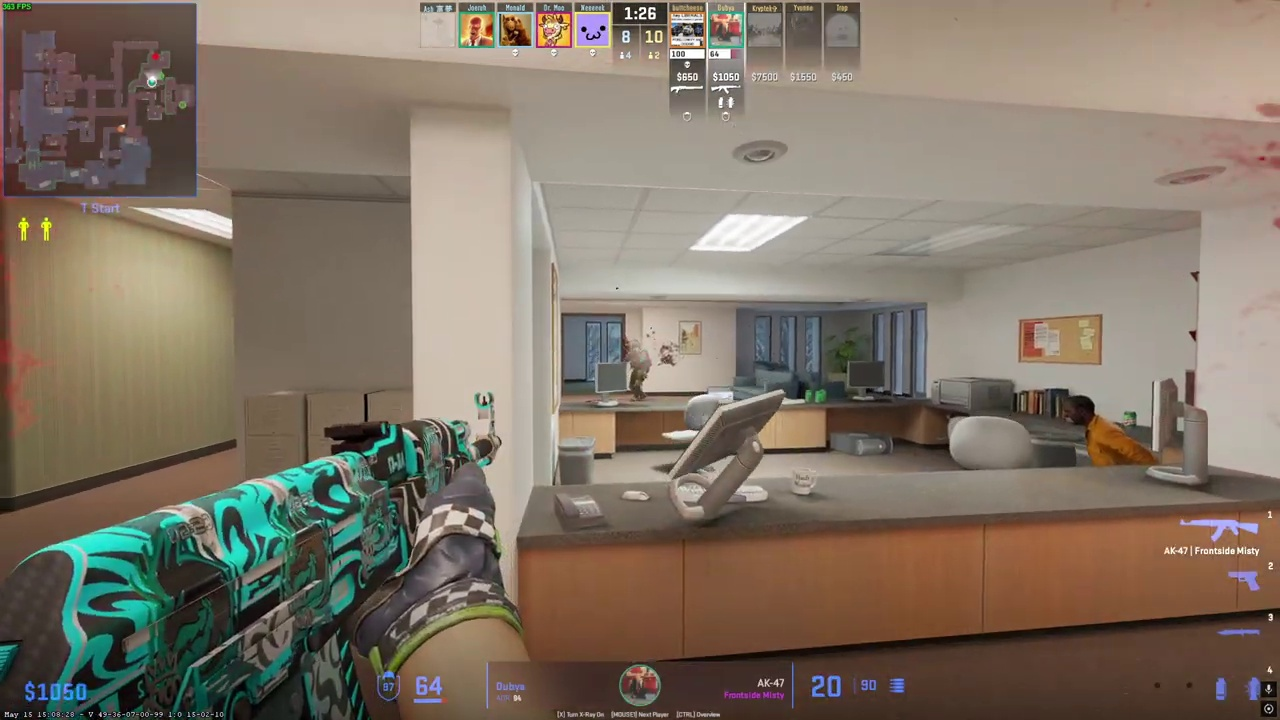CT: (626, 339, 649, 400)
